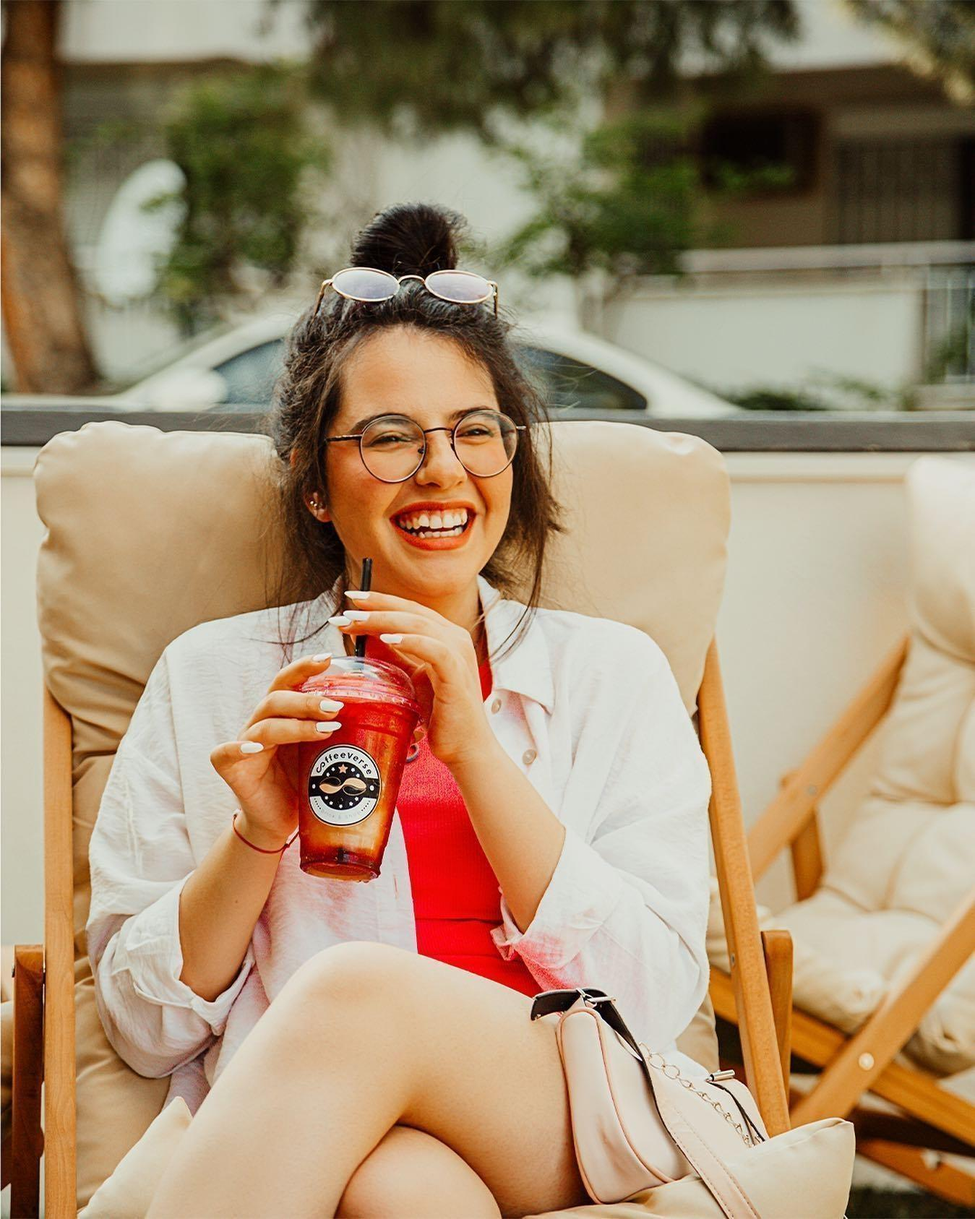cup-disposable: (288, 649, 426, 887)
